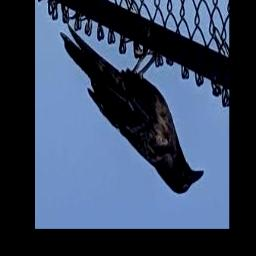Crow: (60, 23, 204, 195)
